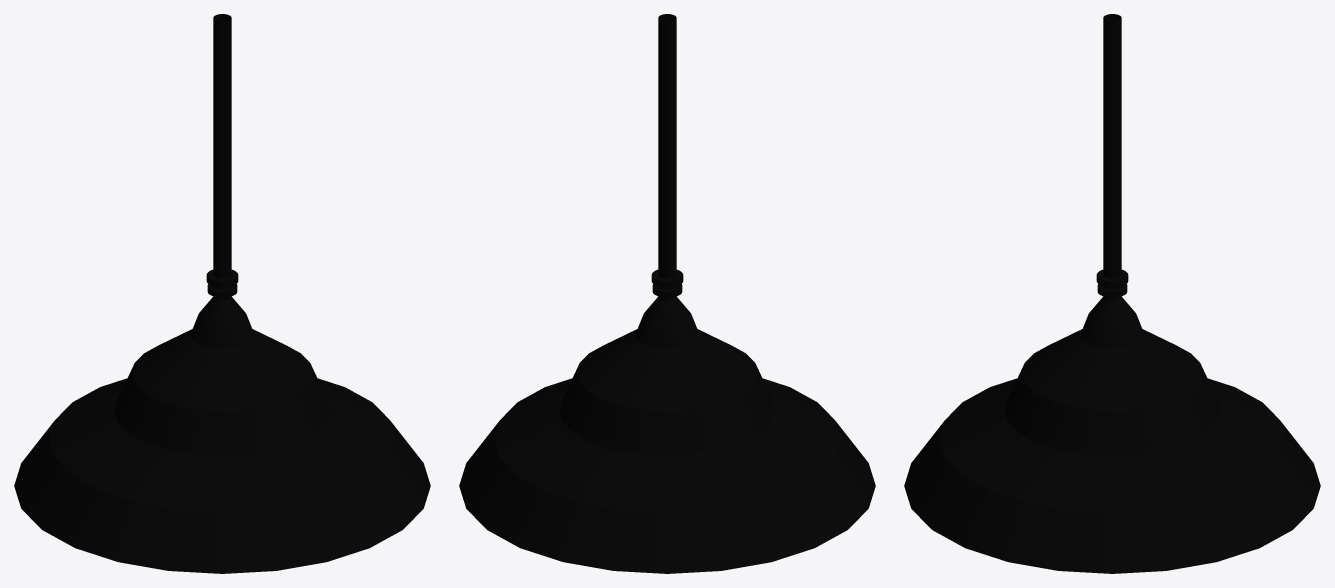
Rendered from Light.fbx.
The picture shows the model from 3 angles, left to right: view 1: azimuth 30°, elevation 25°; view 2: azimuth 150°, elevation 25°; view 3: azimuth 270°, elevation 25°; orthographic projection.
Parts seen in each view (by area): view 1: Circle; view 2: Circle; view 3: Circle.
Boxes of the visible parts, left/top/right/bottom form: Circle: left=14, top=14, right=430, bottom=573; Circle: left=459, top=14, right=875, bottom=573; Circle: left=904, top=14, right=1320, bottom=573.
Bounding box in the file's own units: 478 × 593 × 478.
